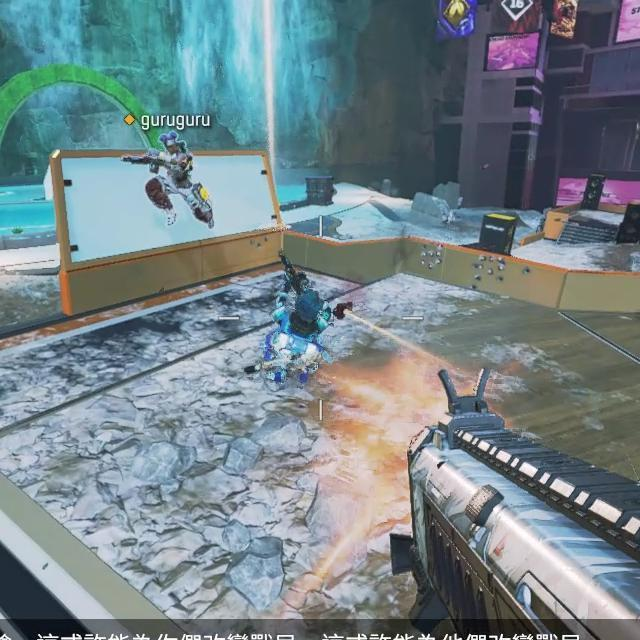avatar: (144, 129, 216, 232)
